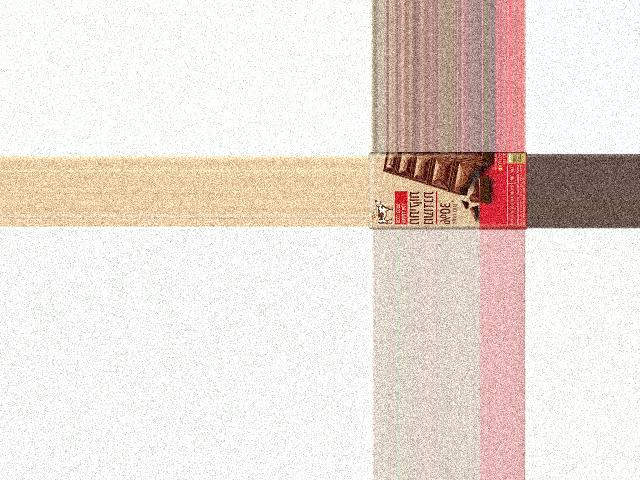chocolate: (368, 152, 526, 230)
